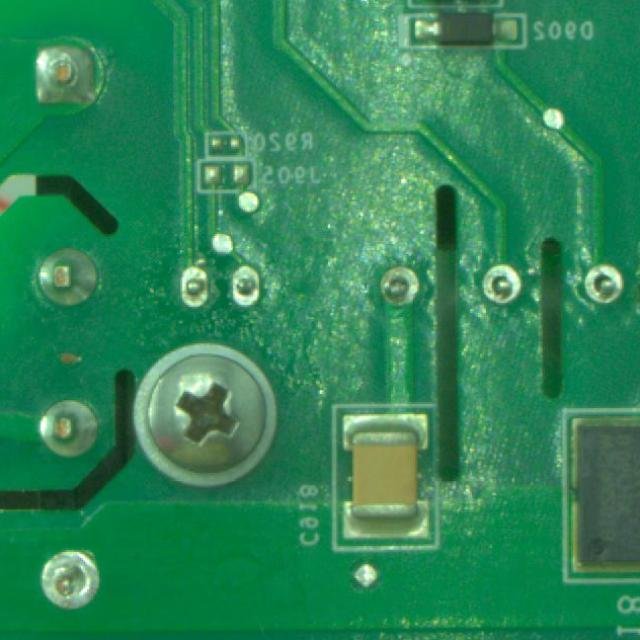Insufficient solder: (579, 255, 631, 314), (481, 251, 528, 311), (165, 264, 214, 317), (372, 260, 424, 307), (233, 255, 269, 310)
